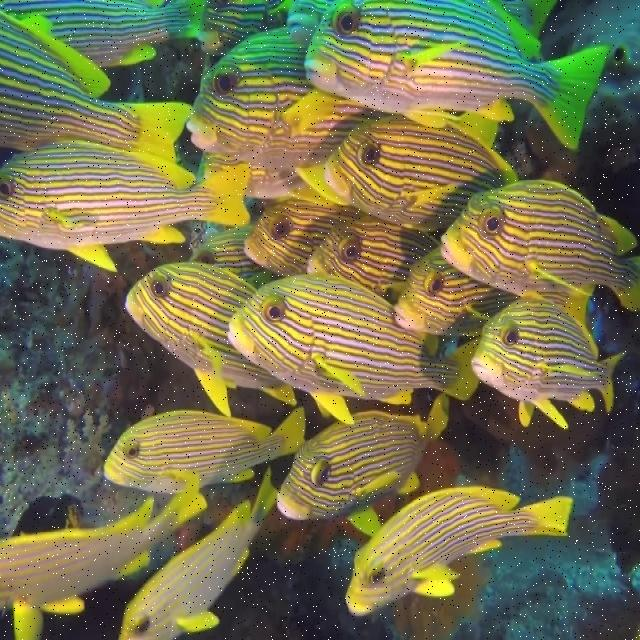fish: (303, 0, 609, 152), (227, 273, 483, 426), (185, 23, 397, 204), (1, 136, 253, 274), (1, 491, 211, 639), (1, 9, 194, 164), (345, 485, 576, 614), (441, 179, 639, 324), (119, 468, 279, 639), (127, 261, 302, 417), (276, 391, 450, 537), (325, 115, 519, 229), (472, 298, 625, 430), (105, 402, 311, 493), (1, 0, 264, 68), (308, 213, 445, 307), (391, 250, 517, 336)
